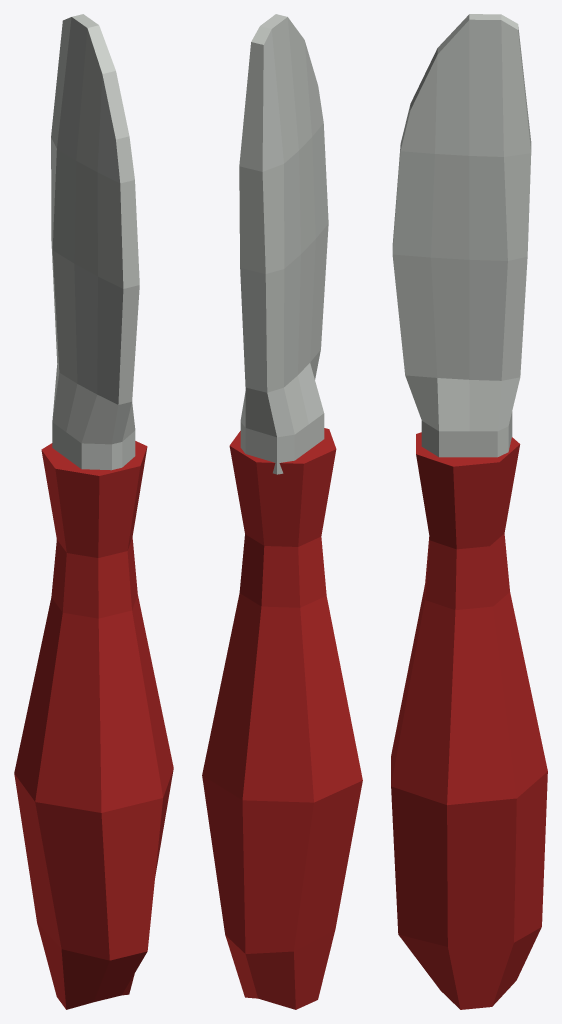
The model's file is knife-red.fbx.
3 views of the same model, side by side, from view 1: azimuth 30°, elevation 25°; view 2: azimuth 150°, elevation 25°; view 3: azimuth 270°, elevation 25° (orthographic).
Visible parts, largest first — view 1: knife.004; view 2: knife.004; view 3: knife.004.
Part boxes in pixels (box(x1,y1,x2,y2)): knife.004: box(14, 14, 173, 1009); knife.004: box(202, 14, 362, 1009); knife.004: box(391, 14, 547, 1009).
Bounding box in the file's own units: 142 × 950 × 138.
